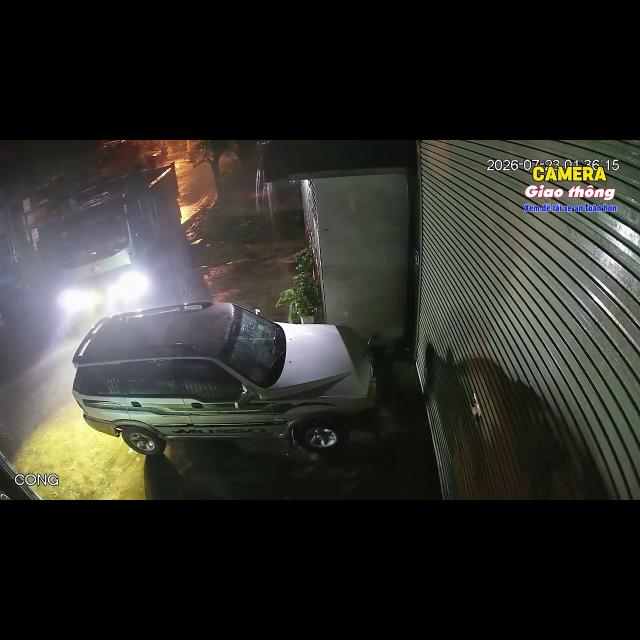car: (73, 302, 376, 454)
truck: (0, 164, 188, 328)
